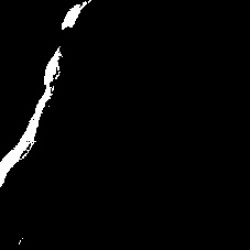crack: (3, 3, 90, 184)
